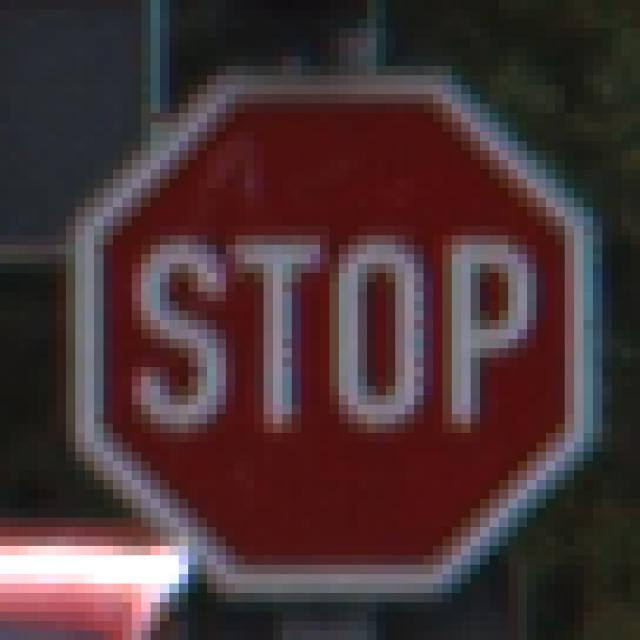STOP: (67, 67, 584, 584)
